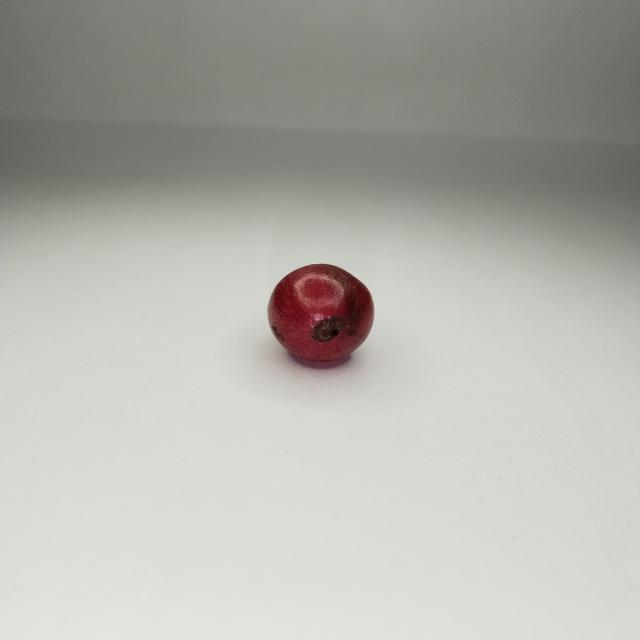Infectado: (265, 263, 376, 369)
